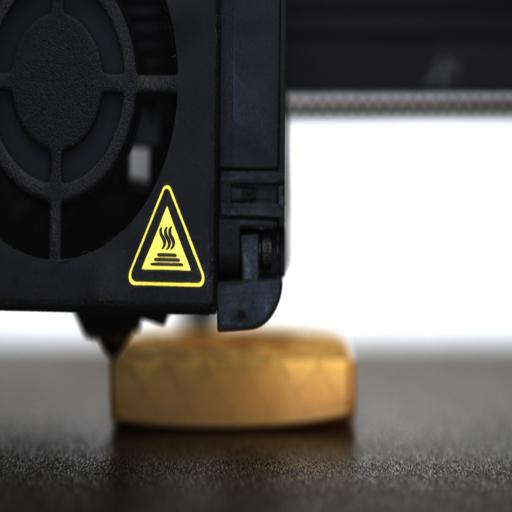warp: (112, 400, 345, 434)
